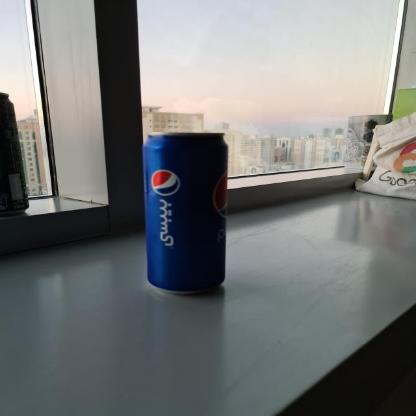Can: (142, 128, 230, 298)
